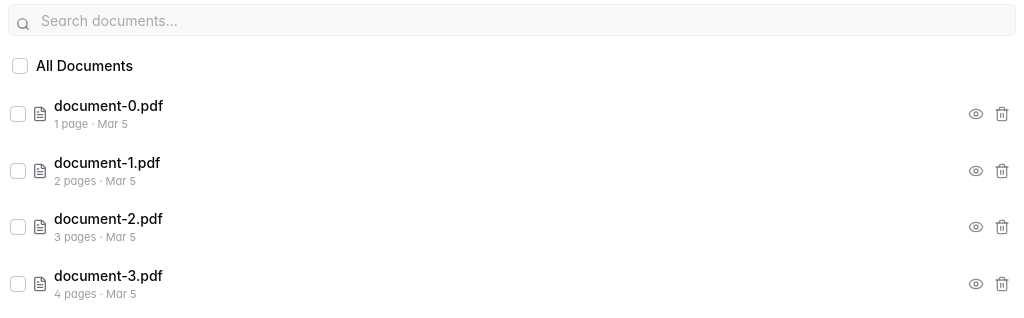
Test: DocumentList › filters documents when searching
Type "document-0" into the field with placeholder "Search documents...".
click(512, 20); type("document-0")  # box [8, 4, 1016, 36]
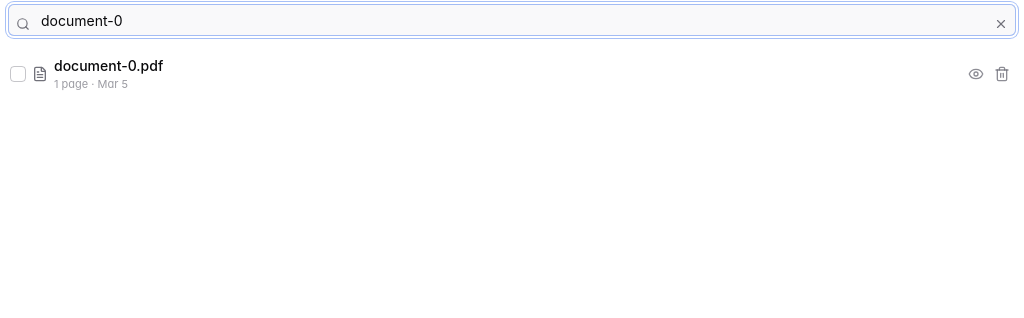
expect the text "document-0.pdf" is shown: met, box [54, 57, 163, 74]
expect the checkbox "document-1.pdf" is gone: met
